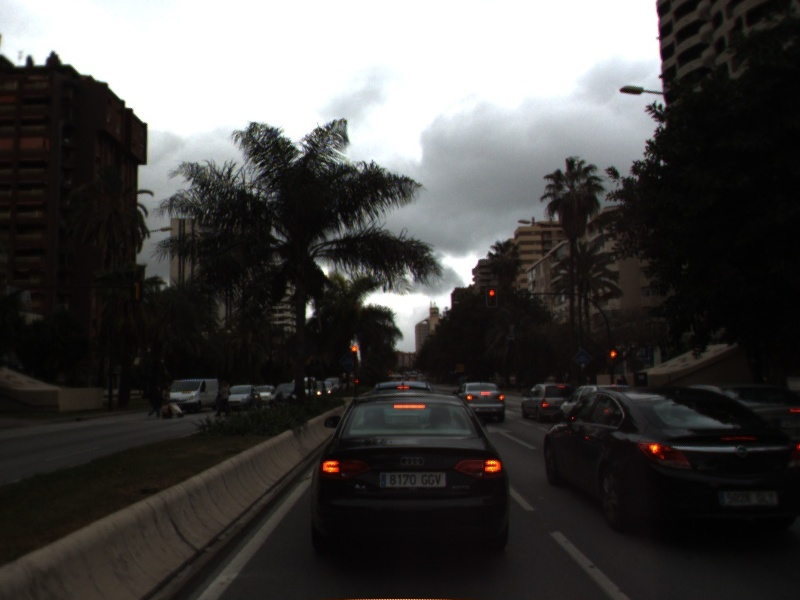STRAIGHT: (484, 422, 540, 451)
